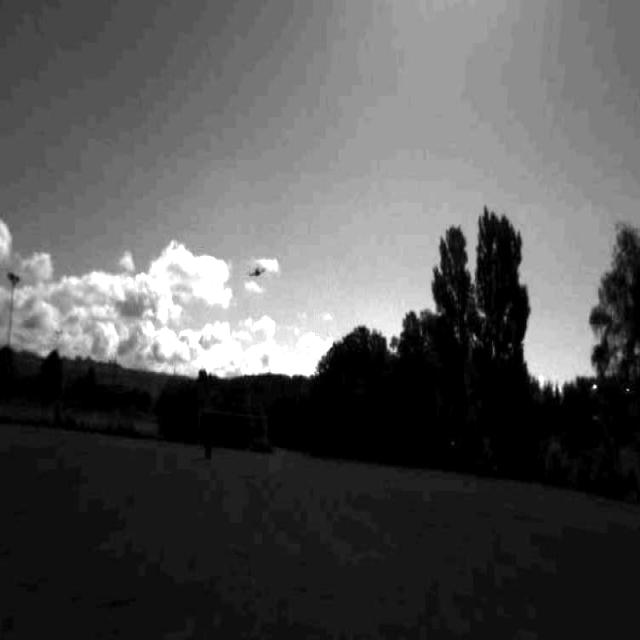drone: (248, 257, 265, 288)
